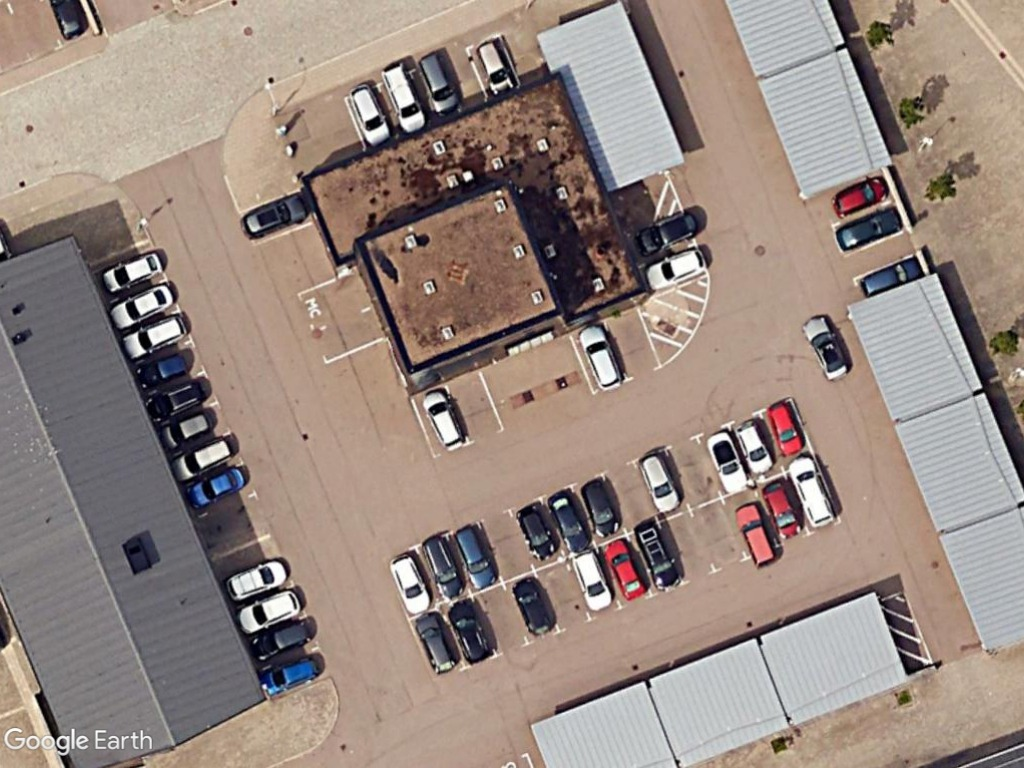car: (629, 515, 688, 596), (379, 61, 432, 135), (237, 582, 306, 638), (787, 451, 837, 528), (418, 386, 472, 457), (573, 320, 624, 395), (798, 310, 851, 382), (96, 245, 166, 299), (412, 50, 466, 119), (240, 188, 310, 241), (121, 310, 191, 363), (107, 279, 178, 331), (247, 613, 316, 666), (636, 449, 688, 519), (599, 534, 650, 604), (835, 202, 906, 252), (507, 573, 558, 642), (576, 474, 628, 541), (704, 426, 752, 498), (733, 499, 782, 569), (446, 596, 495, 666), (221, 555, 292, 603), (170, 434, 238, 484), (634, 206, 703, 255), (644, 242, 710, 293), (421, 531, 467, 604), (451, 522, 500, 590), (760, 475, 808, 544), (545, 490, 595, 556), (143, 375, 210, 424), (386, 549, 434, 617), (182, 462, 247, 511), (569, 545, 615, 614), (348, 82, 396, 148), (830, 170, 892, 221), (472, 37, 518, 101), (515, 501, 561, 563), (259, 652, 321, 698), (132, 346, 194, 392), (415, 609, 458, 675), (733, 416, 778, 479), (158, 406, 217, 452), (765, 400, 808, 458)
